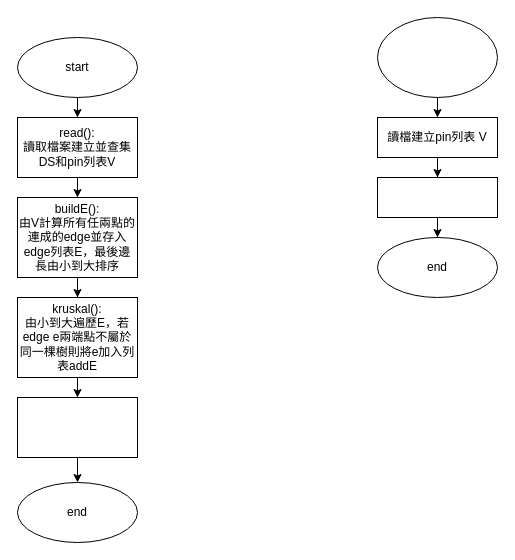
This 515x560 diagram has some shape labels left out. Each missing label, with the box of its shape:
function read: (376, 16, 498, 98)
output(): 遍歷addE加總邊長，再進行輸出: (16, 396, 138, 458)
讀檔更新併查集 DS: (376, 176, 498, 218)
